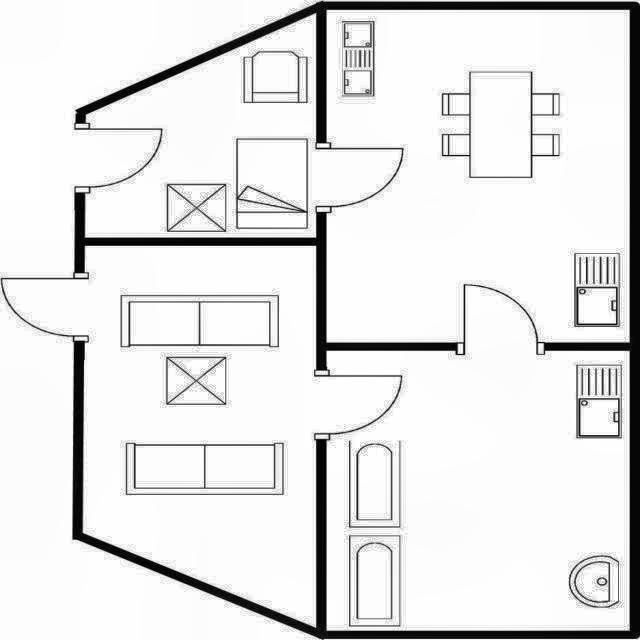room: (327, 10, 630, 343), (83, 246, 316, 628), (326, 351, 630, 631), (85, 13, 316, 238)
